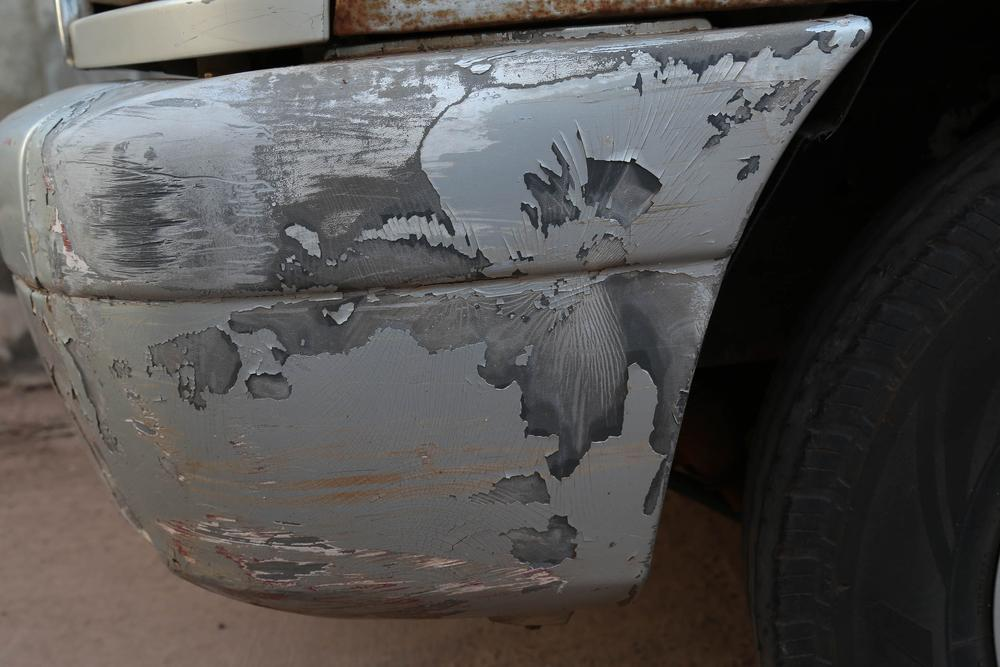scratch: (28, 17, 865, 608)
